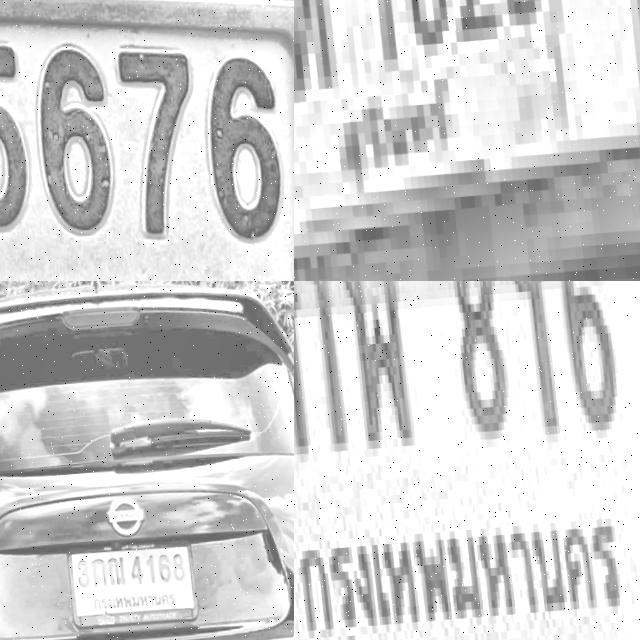license-plate: (294, 281, 640, 640), (294, 0, 640, 281), (0, 0, 294, 281), (59, 525, 203, 639)
